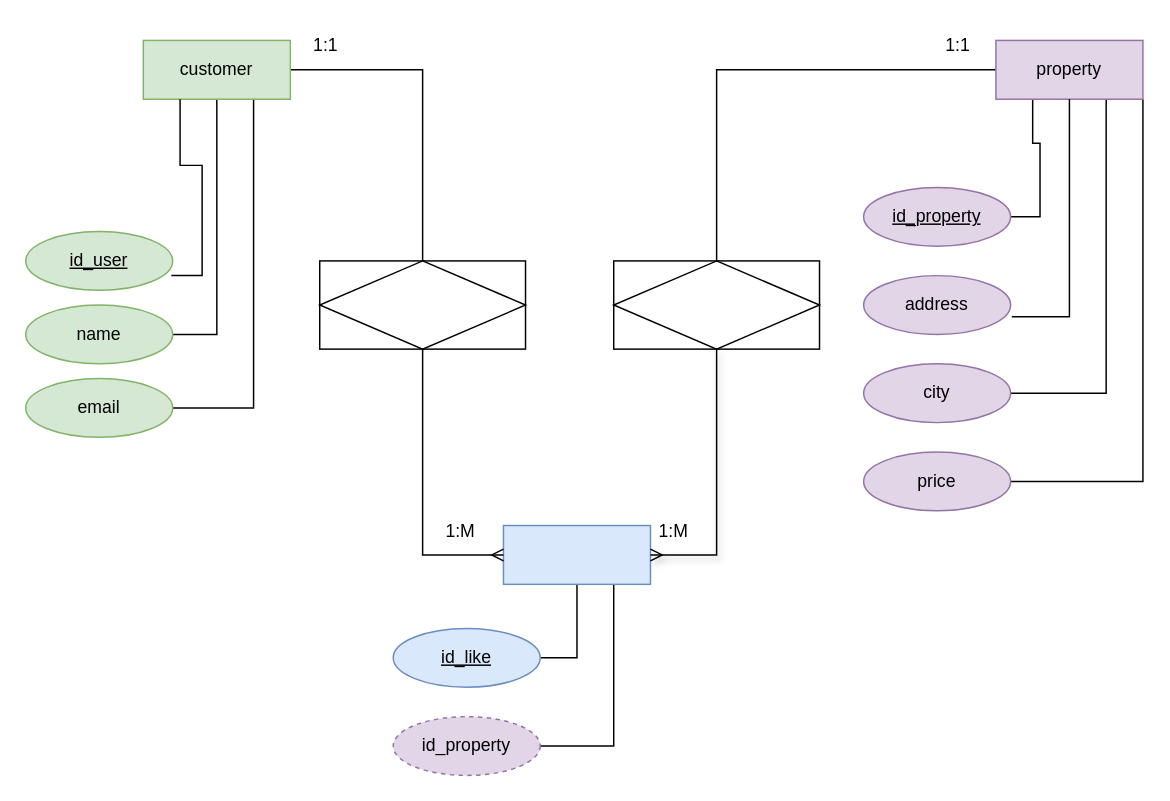
Image size: 1170x801. Some labels were removed from this diagram. Here are the shapes that lost their labels. From the top down, the centre of each, then its label:
point 422,304: give
point 716,304: have
point 576,554: likes
